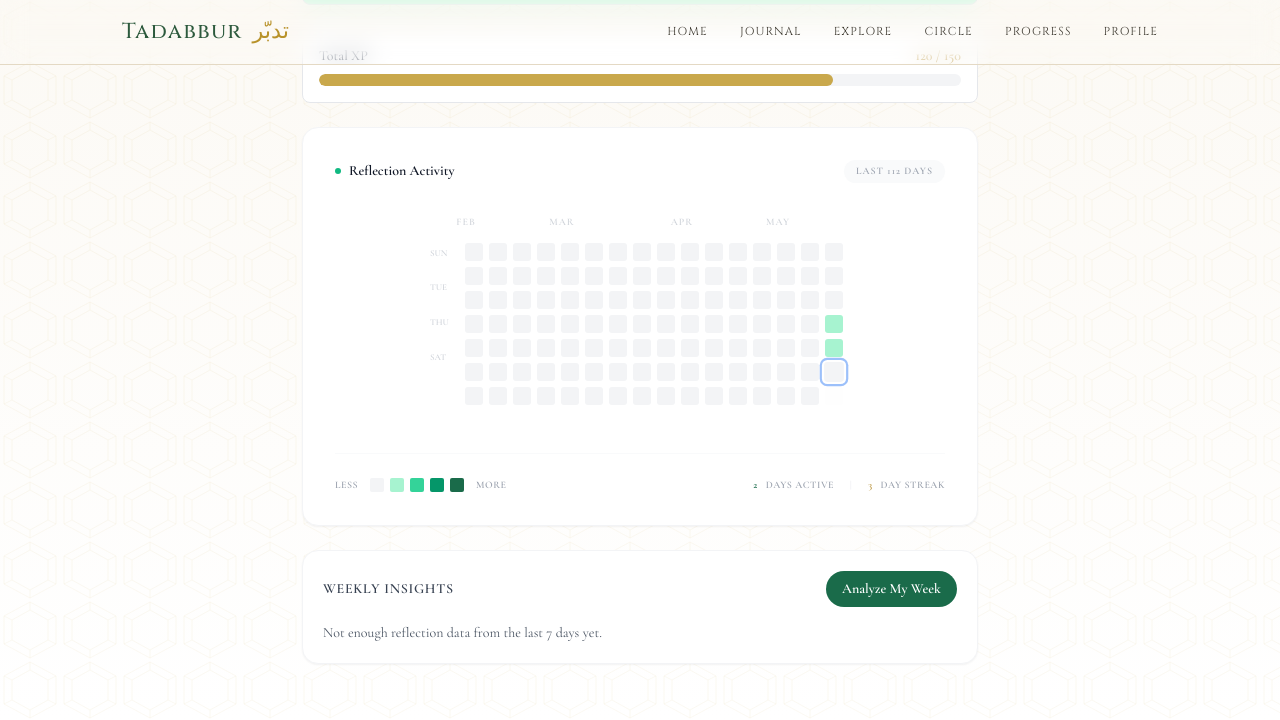
Test: Progress weekly insights › shows analyzing state while weekly insights are being generated
(page scrolled)
Click the button "Analyze My Week" at (892, 589), box [826, 571, 957, 607]
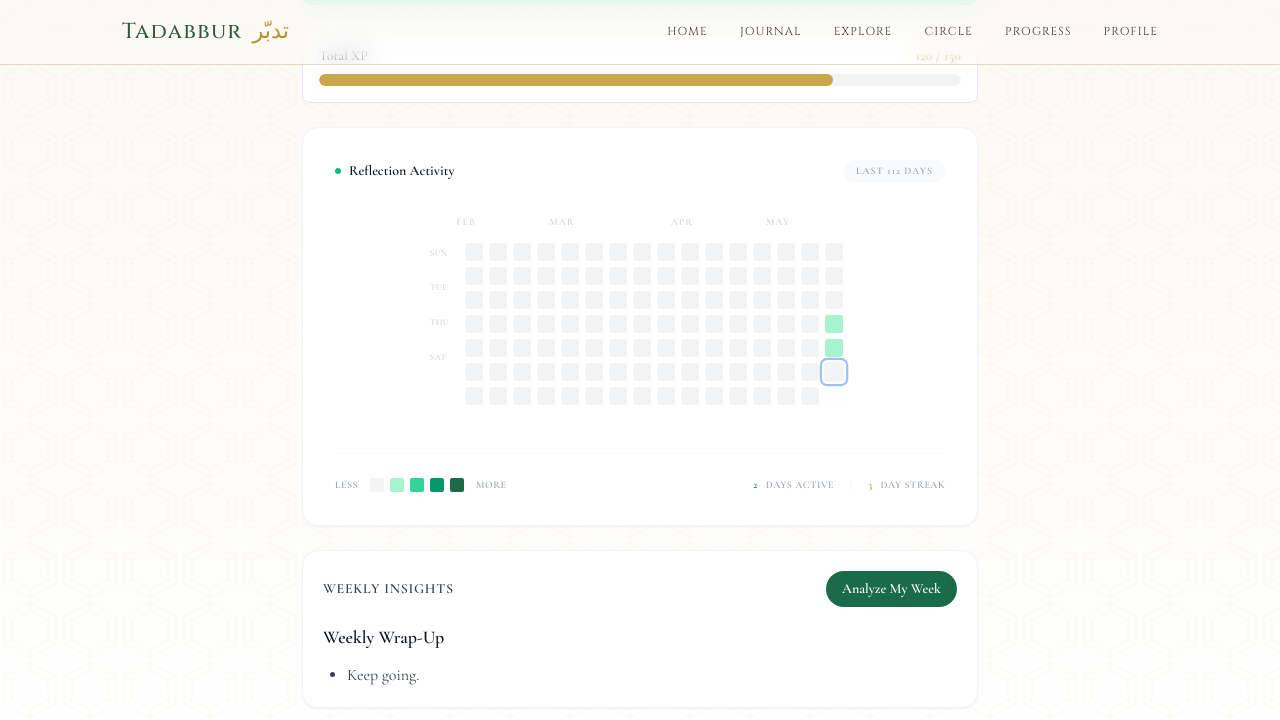
Check: the heading "Weekly Wrap-Up" is shown, box [323, 626, 444, 648]
